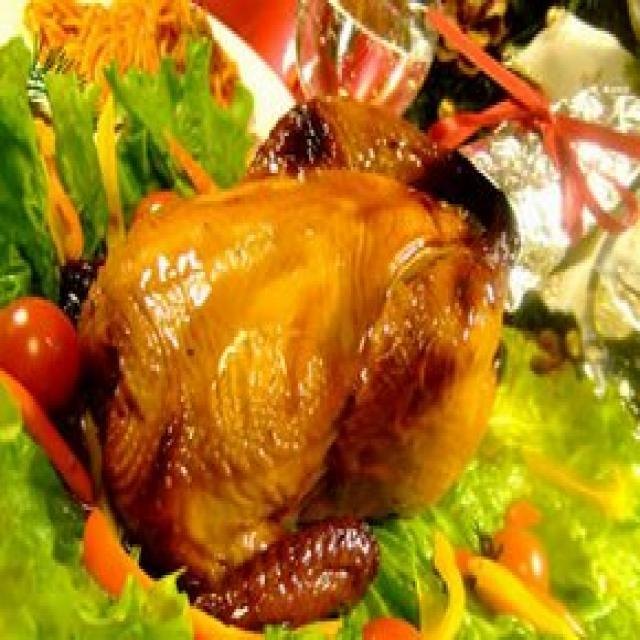Chicken roast: (108, 111, 508, 599)
Tomato: (5, 291, 91, 409)
